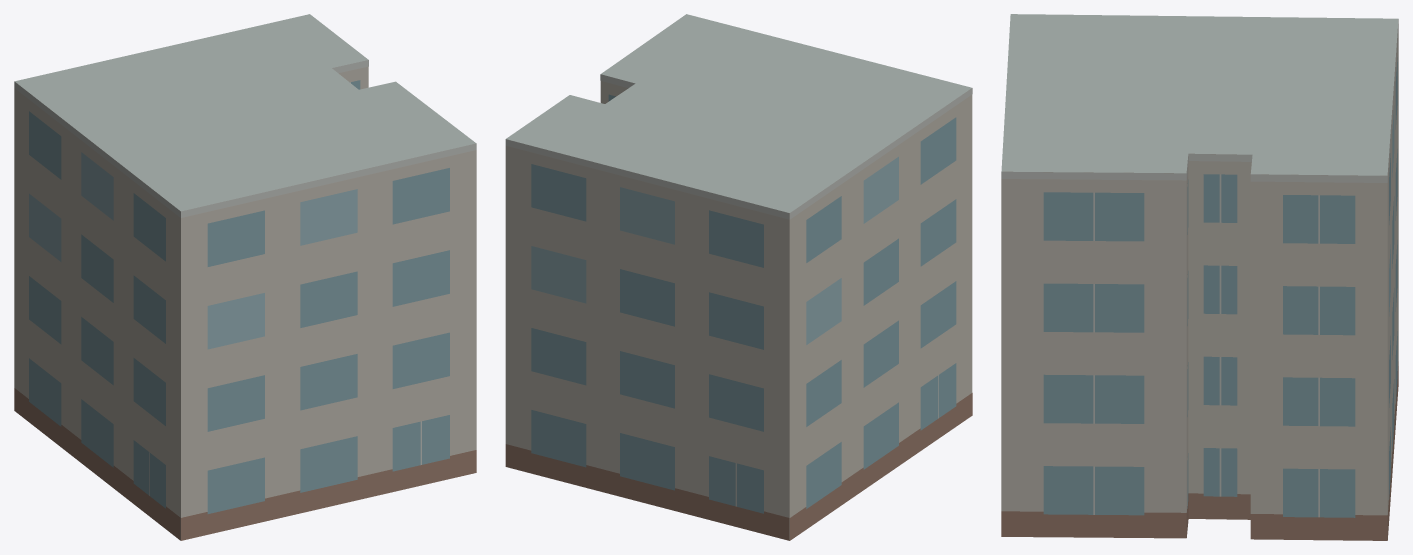
Rendered from survey-upis-32832906.glb.
3 views of the same model, side by side, from view 1: azimuth 30°, elevation 25°; view 2: azimuth 150°, elevation 25°; view 3: azimuth 270°, elevation 25° (orthographic). The views are drawn at different scales.
Parts seen in each view (by area): view 1: survey-upis-32832906.tmp; view 2: survey-upis-32832906.tmp; view 3: survey-upis-32832906.tmp.
Part boxes in pixels (x1,y1,x2,y2): survey-upis-32832906.tmp: [14, 14, 476, 540]; survey-upis-32832906.tmp: [505, 14, 972, 540]; survey-upis-32832906.tmp: [1001, 14, 1398, 540].
Bounding box in the file's own units: 11.6 × 12.2 × 12.04.
